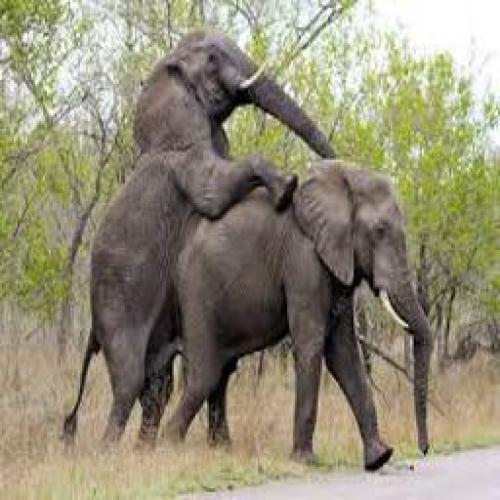african_elephant-endangered: (48, 26, 348, 456), (157, 156, 439, 474)
